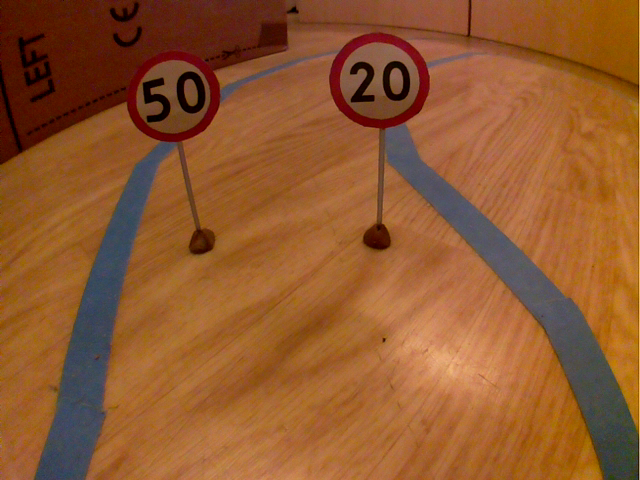Ograniczenie 20: (326, 28, 435, 134)
Ograniczenie 50: (121, 47, 226, 148)
